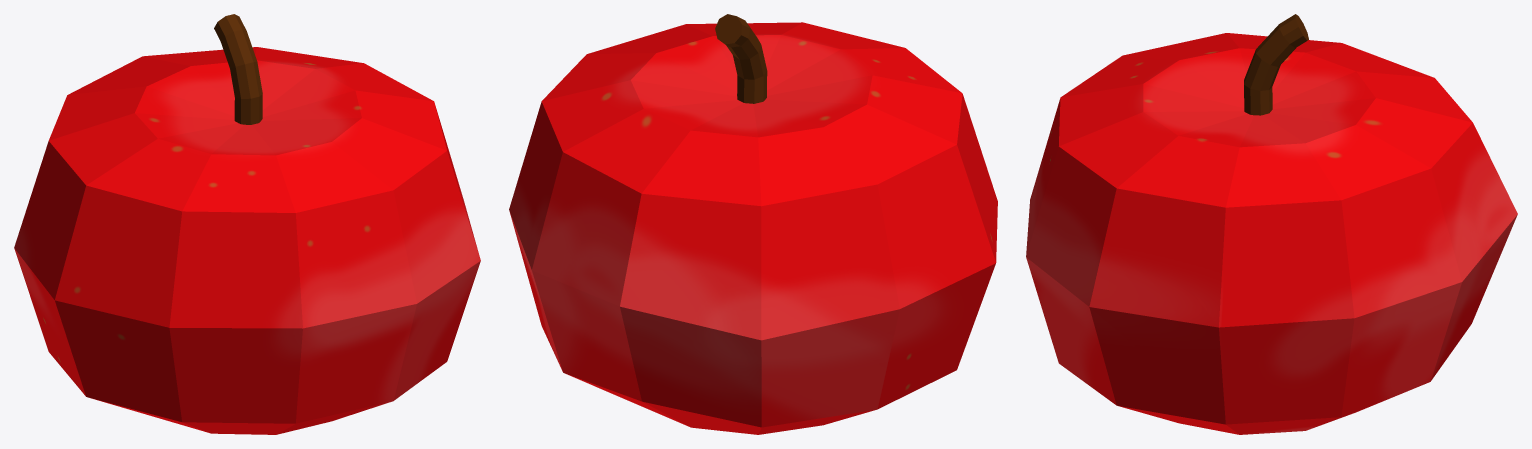
Rendered from apple.fbx.
3 views of the same model, side by side, from view 1: azimuth 30°, elevation 25°; view 2: azimuth 150°, elevation 25°; view 3: azimuth 270°, elevation 25° (orthographic). The views are drawn at different scales.
Visible parts, largest first — view 1: Apple, stickapple; view 2: Apple, stickapple; view 3: Apple, stickapple.
Part boxes in pixels (x1,y1,x2,y2): Apple: [14, 47, 480, 434]; stickapple: [214, 14, 262, 124]; Apple: [509, 22, 997, 434]; stickapple: [715, 14, 767, 103]; Apple: [1026, 33, 1517, 434]; stickapple: [1244, 14, 1308, 115].
Bounding box in the file's own units: 54.11 × 45.5 × 54.88.
